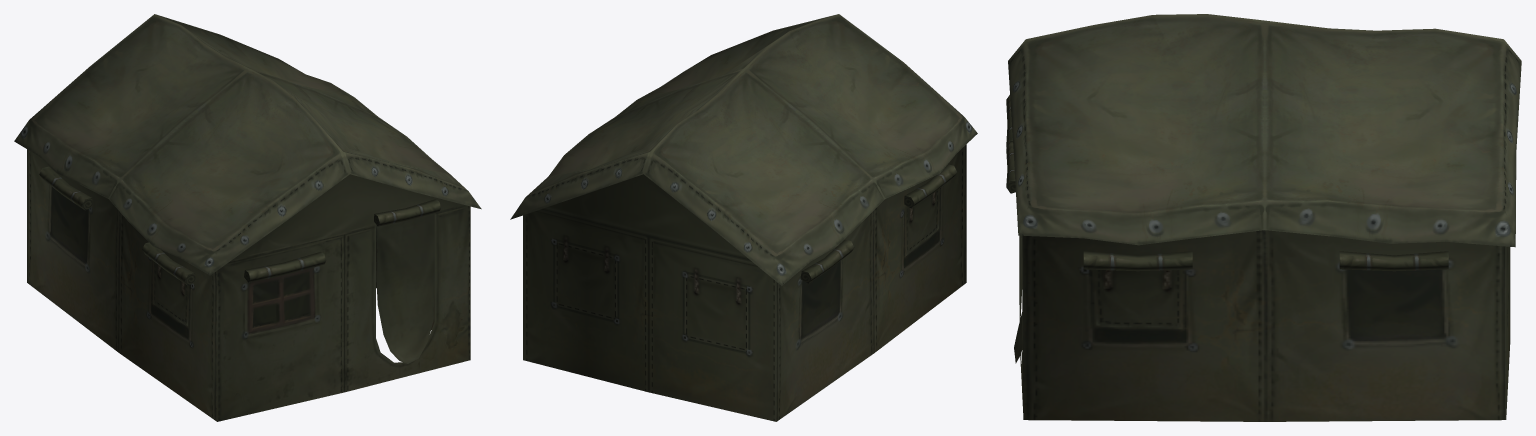
File: Stage-binan-zhangpeng1.FBX
3 views of the same model, side by side, from view 1: azimuth 30°, elevation 25°; view 2: azimuth 150°, elevation 25°; view 3: azimuth 270°, elevation 25° (orthographic). The views are drawn at different scales.
Visible parts, largest first — view 1: ding001; view 2: ding001; view 3: ding001.
Boxes of the visible parts, x1,y1,x2,y2 form: ding001: (14,14,481,421); ding001: (510,14,977,421); ding001: (1006,14,1521,421).
Bounding box in the file's own units: 4.18 × 3.54 × 5.05.
Materials: 1 (1 with a texture image).
